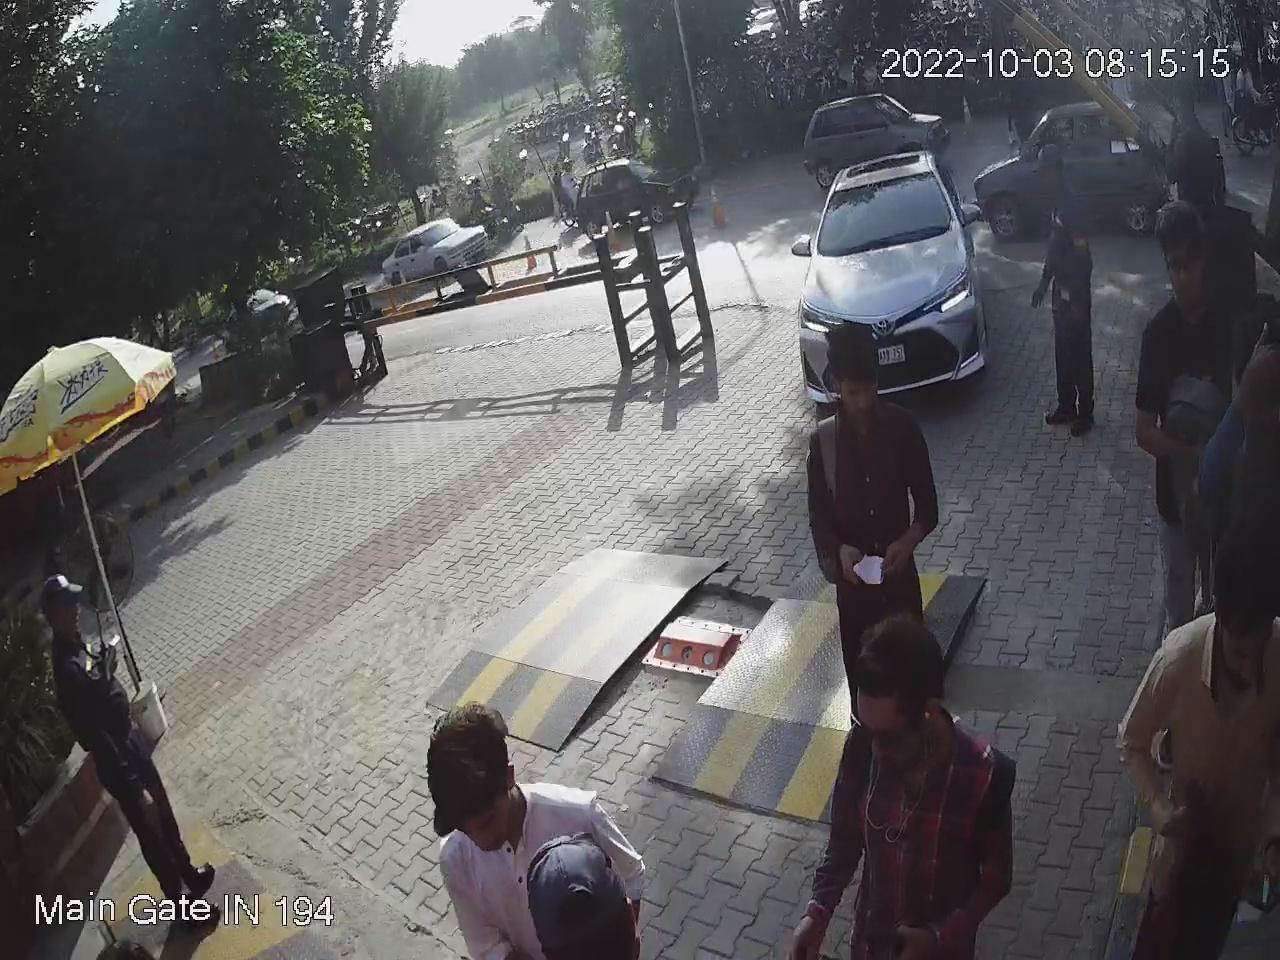windshield: (815, 165, 963, 257)
